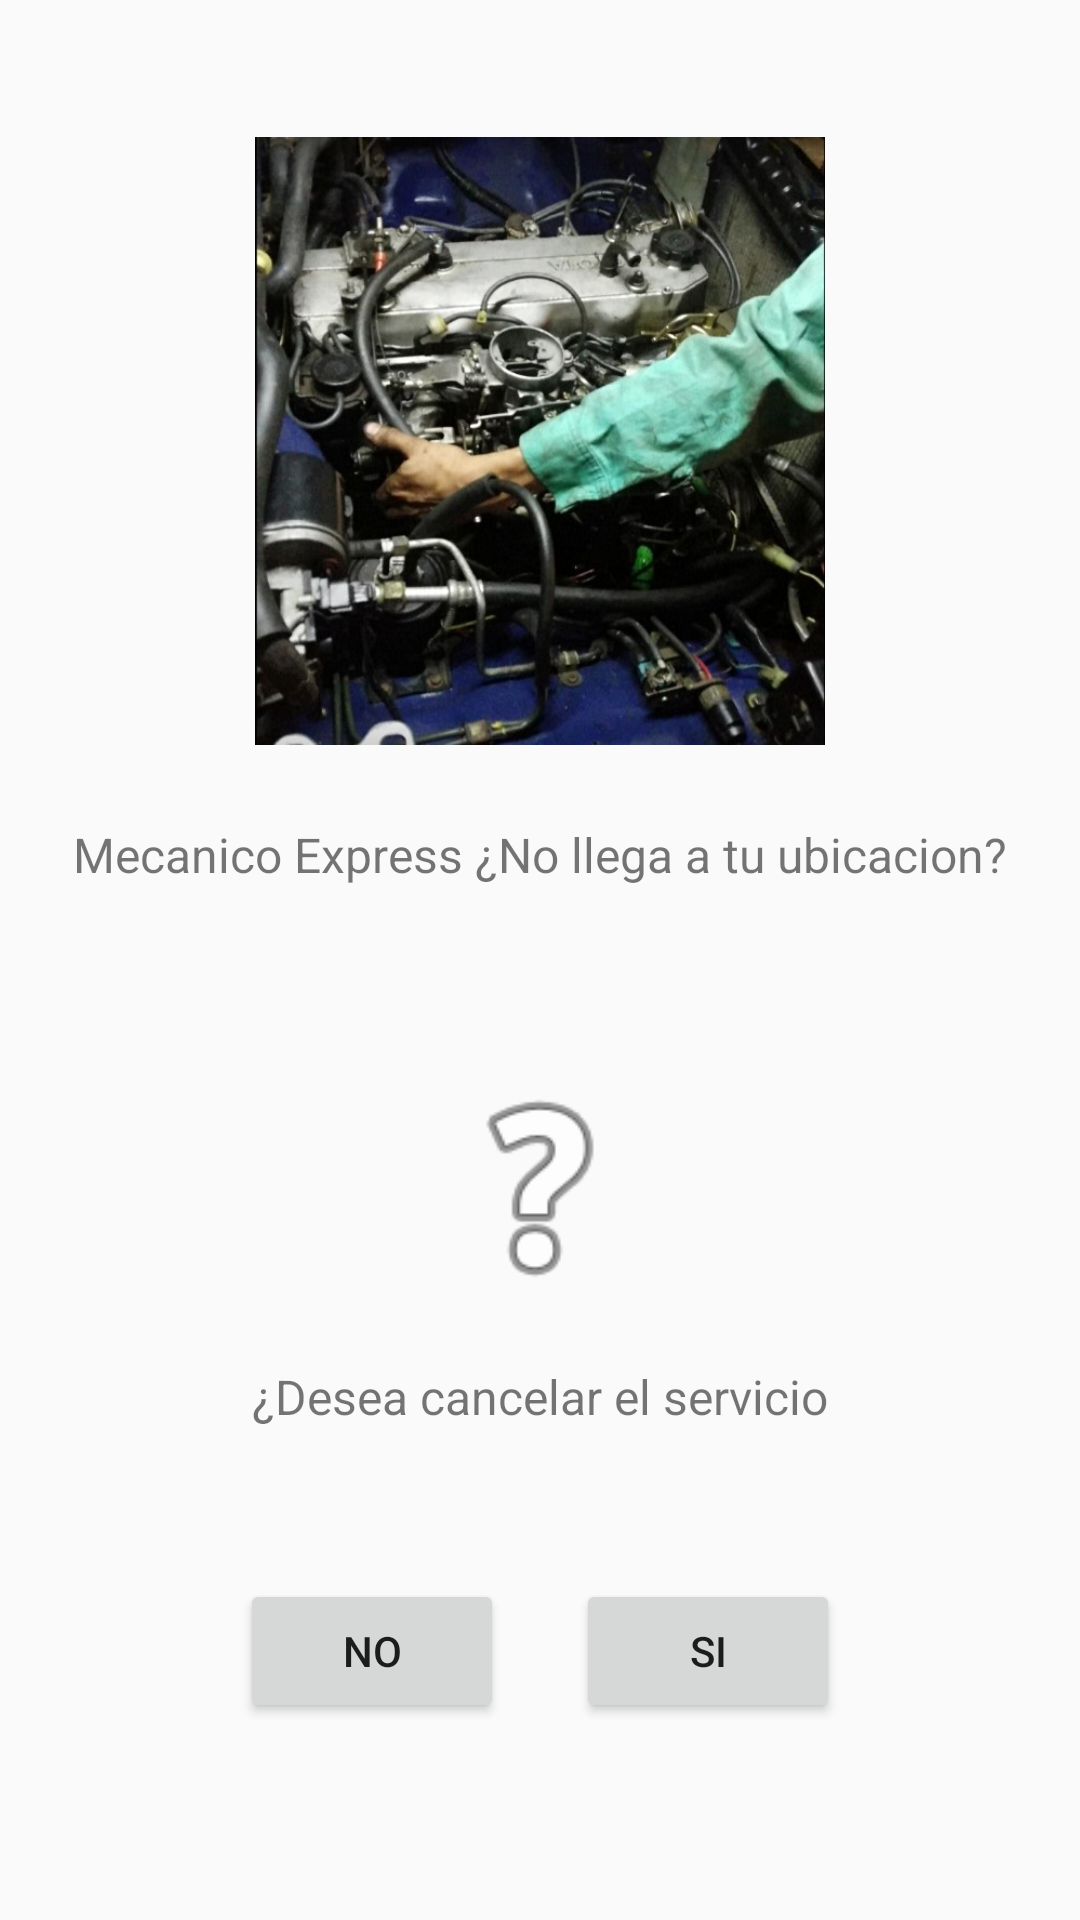

Screen size 1080w x 1920h. Icon name, then its box in pixels as (x1, y1, x2, y2):
help: (487, 1101, 594, 1276)
